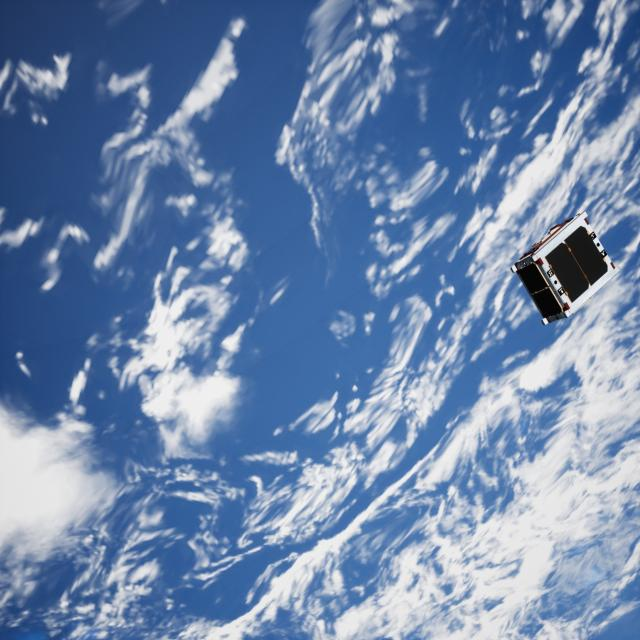satellite: (515, 206, 621, 327)
